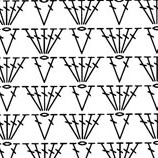enseble_chain: (112, 22, 150, 62), (34, 23, 72, 60), (74, 108, 111, 146), (113, 81, 148, 118), (0, 52, 35, 89), (0, 109, 35, 146), (75, 52, 109, 88), (39, 81, 72, 118), (93, 22, 123, 60), (0, 0, 34, 32), (19, 23, 49, 59), (110, 111, 141, 145), (20, 81, 49, 117), (109, 54, 140, 87), (75, 0, 109, 30), (35, 111, 65, 145), (95, 81, 123, 116), (33, 0, 64, 31), (35, 54, 64, 87), (59, 110, 87, 144), (108, 0, 139, 30), (60, 53, 86, 86), (0, 27, 26, 59), (76, 26, 102, 57), (135, 109, 158, 143), (27, 55, 51, 87), (133, 0, 158, 29), (1, 85, 25, 115), (76, 84, 100, 114), (141, 24, 158, 55), (46, 139, 70, 158), (143, 55, 158, 84), (121, 140, 144, 158)
fan: (27, 83, 49, 114), (72, 0, 90, 25)
